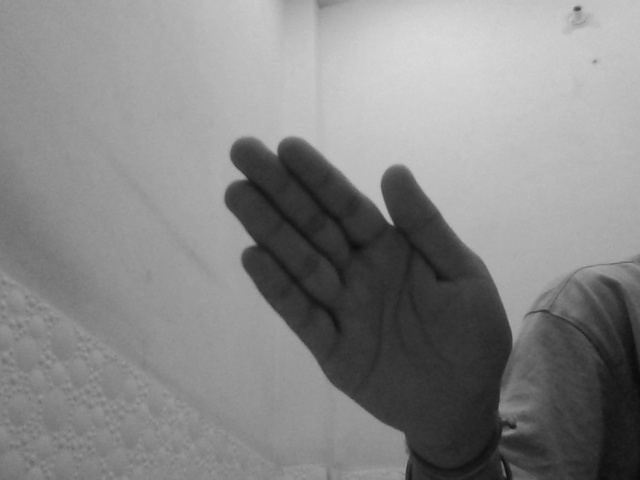Hello: (216, 130, 522, 428)
